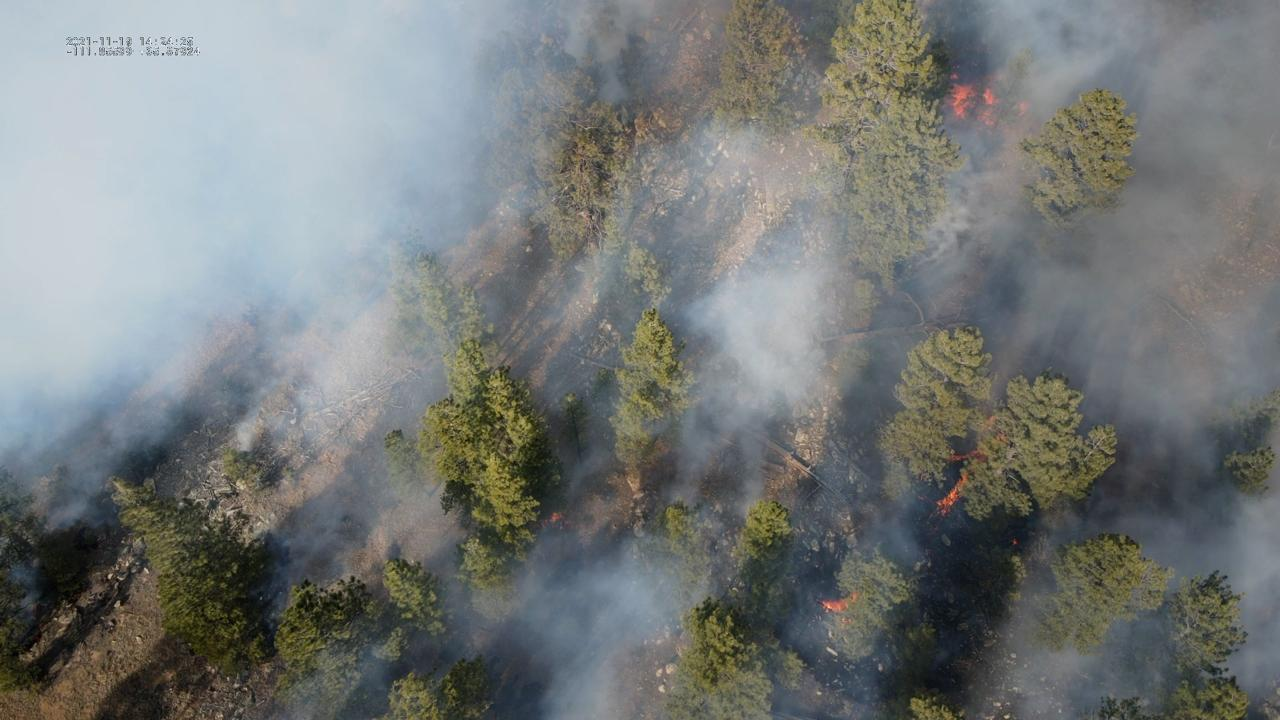fire: (945, 72, 1000, 127), (926, 477, 971, 515), (816, 592, 858, 613), (945, 449, 991, 463), (540, 511, 562, 526), (1017, 101, 1026, 117), (1011, 539, 1019, 547)
smoke: (0, 0, 1280, 720)
